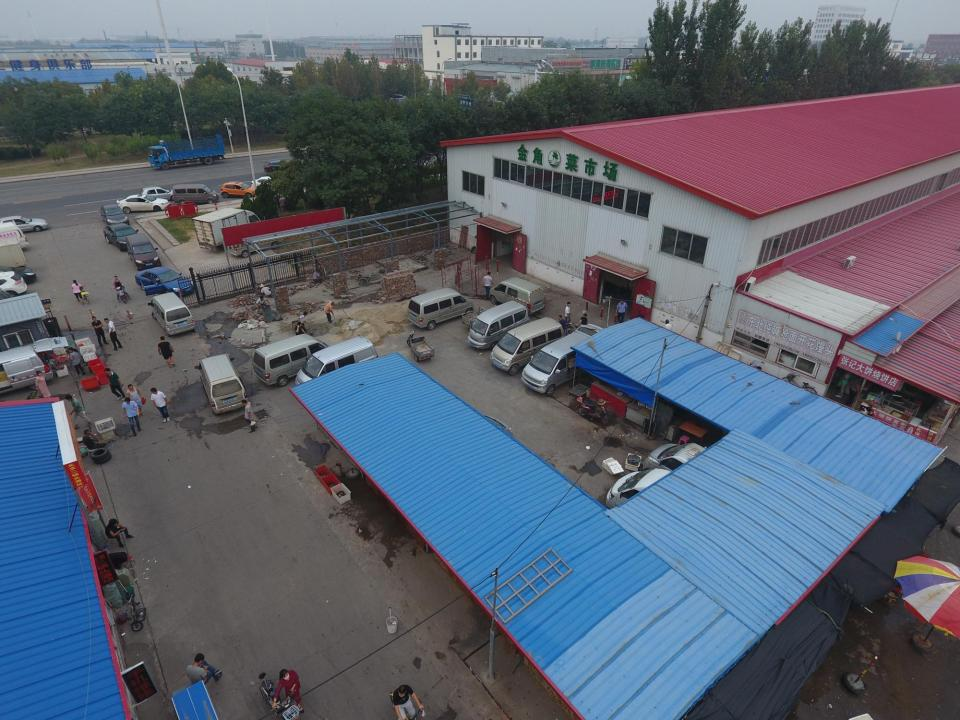car: (134, 267, 196, 297), (102, 222, 144, 252), (116, 194, 170, 214), (0, 215, 48, 235), (0, 265, 37, 287), (0, 270, 27, 300), (100, 204, 130, 227), (138, 185, 178, 202), (221, 180, 256, 198), (251, 176, 289, 192), (264, 159, 296, 174)
truck: (147, 133, 225, 170)
van: (606, 468, 760, 554), (642, 442, 770, 519), (521, 323, 610, 397), (295, 335, 380, 397), (490, 316, 568, 376), (253, 333, 338, 387), (0, 336, 69, 398), (426, 414, 514, 457), (193, 353, 248, 415), (467, 300, 532, 350), (407, 287, 474, 330), (488, 276, 545, 316), (147, 292, 195, 336), (126, 233, 162, 271), (172, 184, 219, 206), (0, 222, 29, 255)
